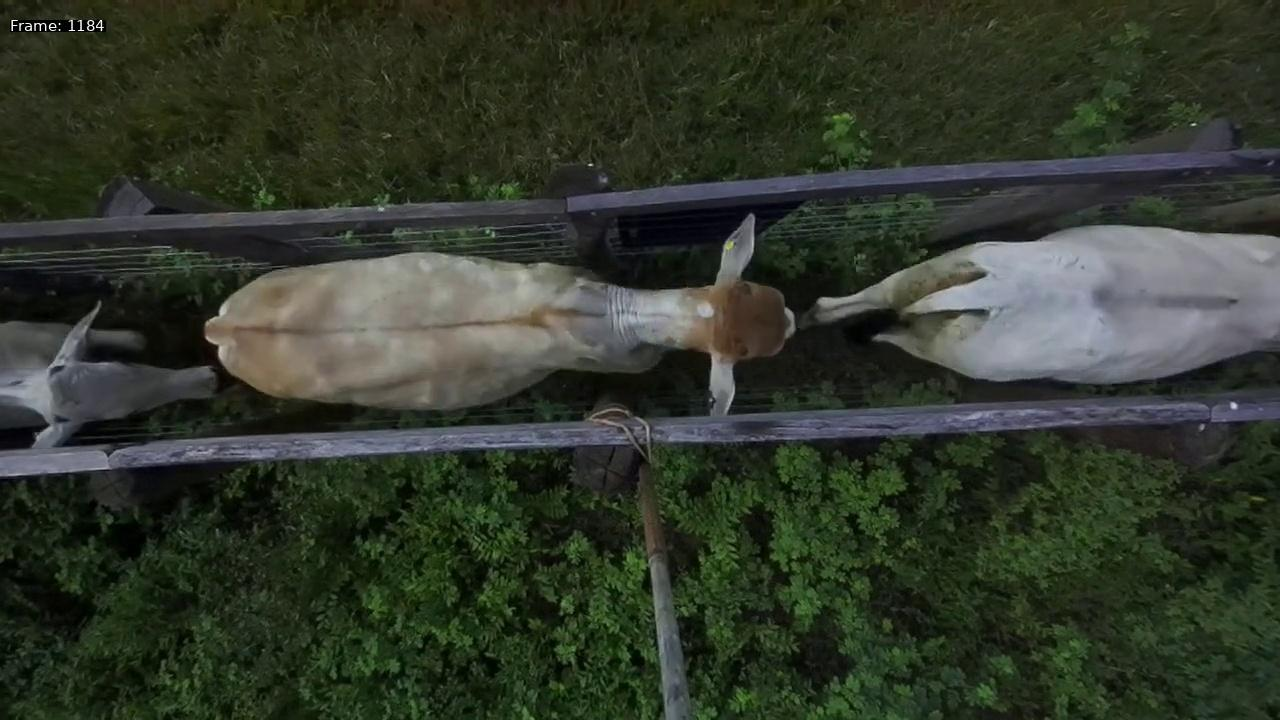cattle: (197, 194, 805, 430)
